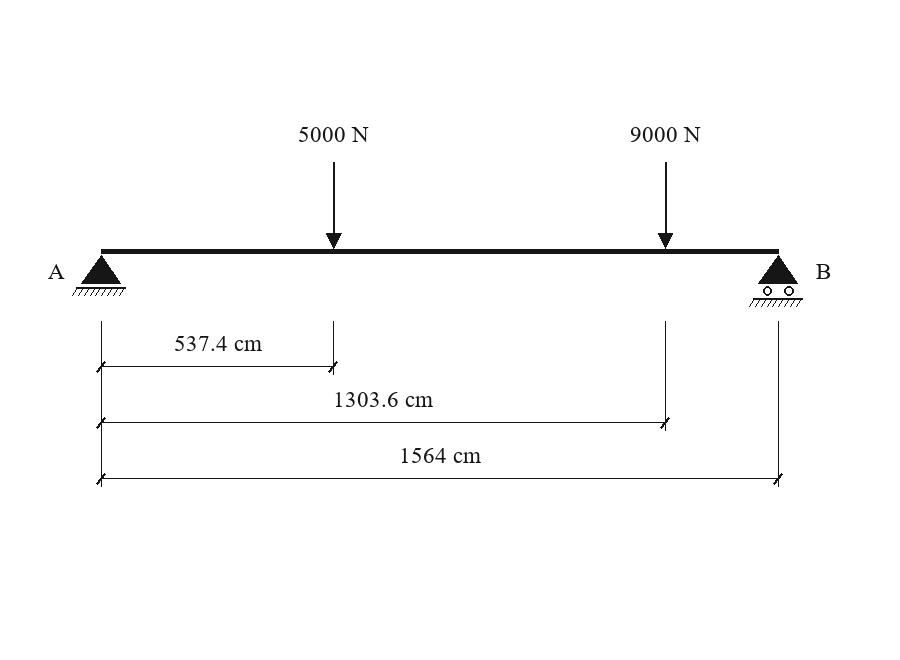pin_support: (72, 255, 126, 296)
point_load: (326, 162, 342, 249), (658, 162, 673, 249)
roller_support: (749, 255, 803, 307)
